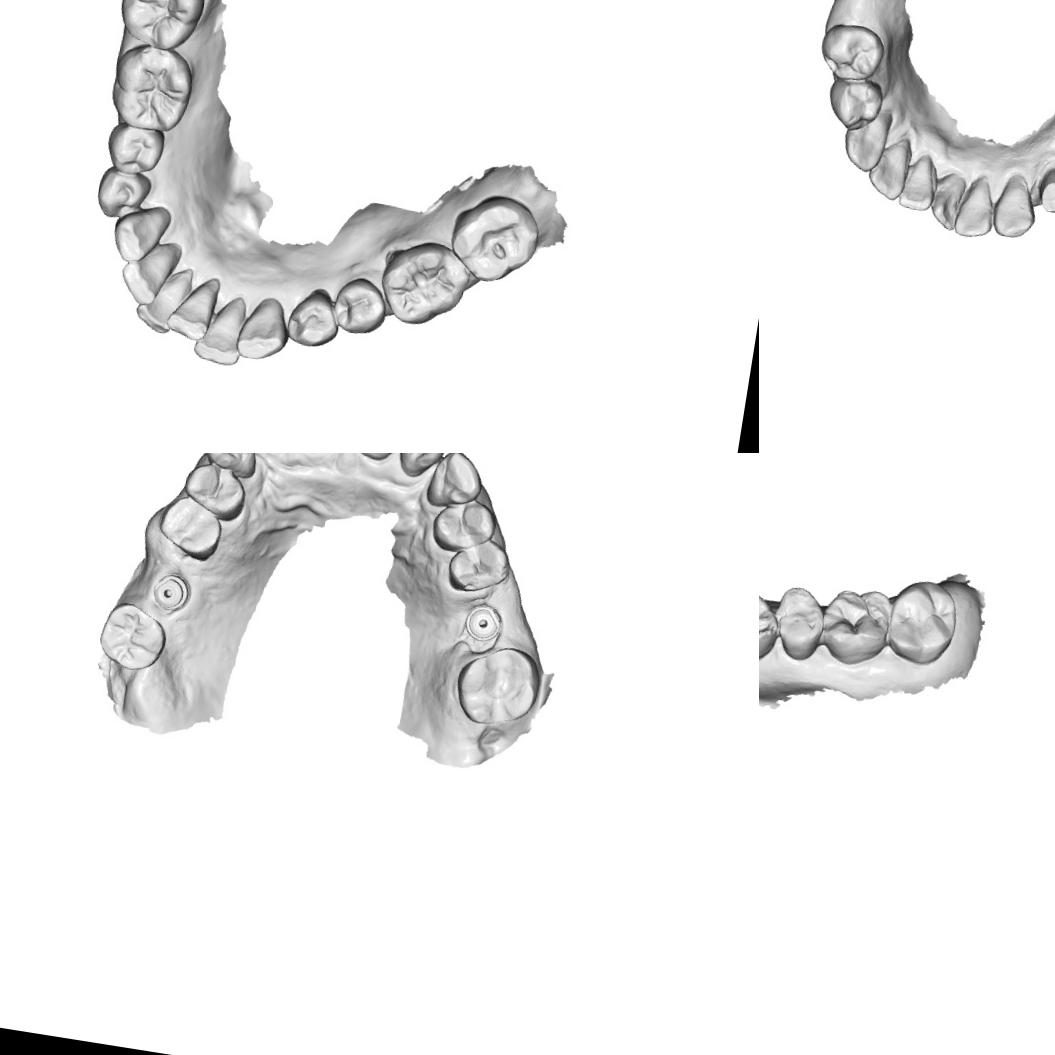abutment: (1034, 163, 1055, 217)
canine: (232, 291, 294, 365), (108, 198, 172, 268), (837, 108, 894, 176), (423, 453, 487, 512), (989, 170, 1042, 241), (200, 453, 263, 480)
implant: (148, 570, 192, 614), (462, 602, 504, 644)
incisor: (132, 260, 196, 337), (116, 241, 180, 310), (165, 272, 224, 344), (193, 296, 250, 367), (864, 132, 914, 203), (954, 170, 1002, 242), (896, 149, 941, 214), (925, 168, 969, 234), (395, 453, 450, 482)
molar: (441, 187, 546, 289), (100, 38, 199, 138), (374, 234, 472, 332), (450, 640, 544, 732), (883, 574, 962, 671), (814, 582, 895, 671), (93, 596, 171, 676), (113, 0, 210, 56)
premolar: (155, 492, 226, 564), (815, 19, 890, 86), (771, 582, 829, 664), (444, 532, 514, 598), (179, 459, 250, 524), (428, 494, 500, 558), (281, 286, 342, 352), (102, 121, 167, 182), (330, 274, 390, 339), (823, 75, 886, 136), (92, 164, 153, 225), (759, 587, 784, 666)
